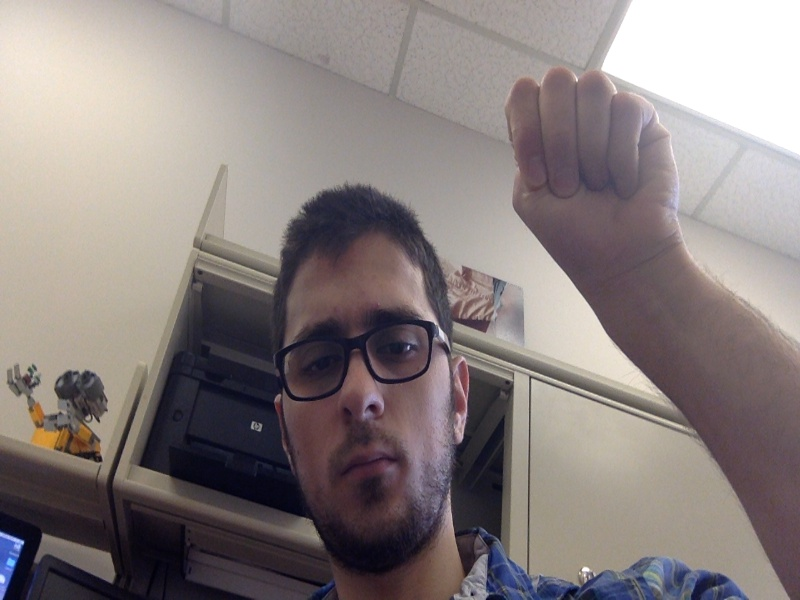0-hand: (503, 69, 677, 275)
